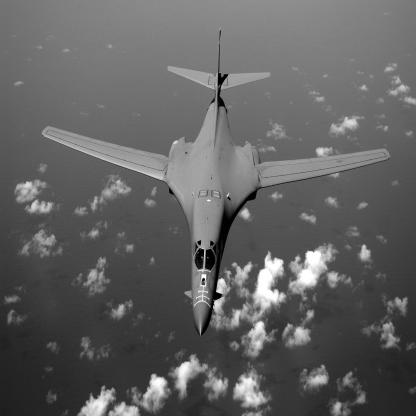B1: (42, 29, 392, 339)
